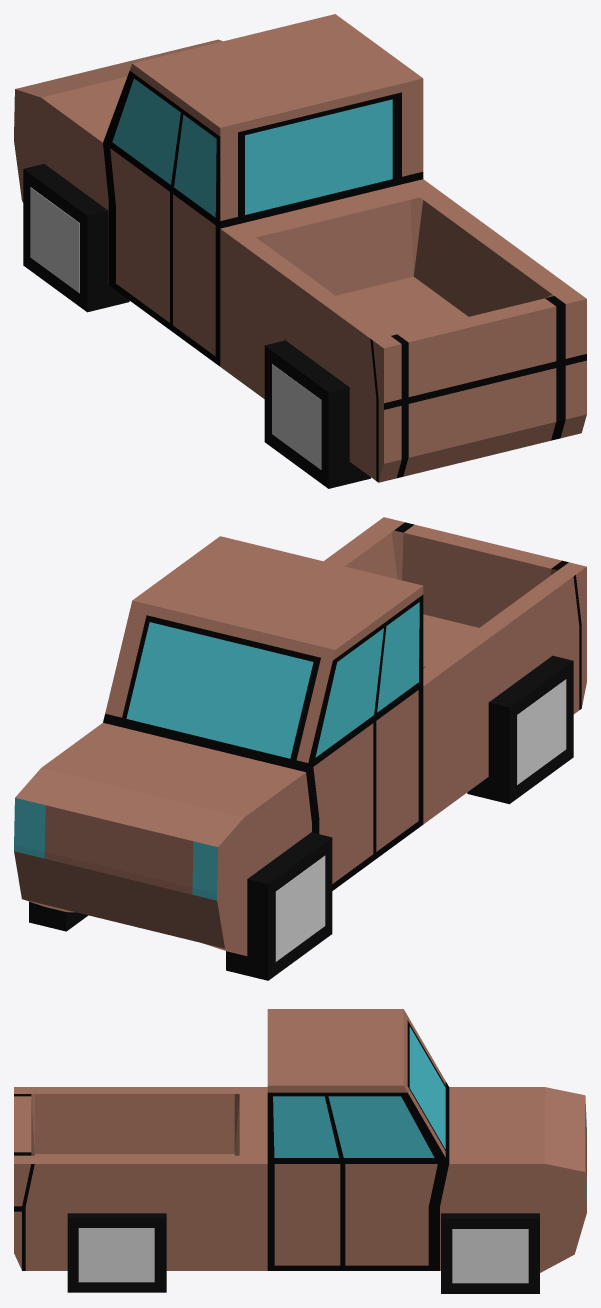
File: cartruck.fbx
3 views of the same model, one above another, from view 1: azimuth 30°, elevation 25°; view 2: azimuth 150°, elevation 25°; view 3: azimuth 270°, elevation 25° (orthographic). The views are drawn at different scales.
Parts seen in each view (by area): view 1: Cube, Cube.002; view 2: Cube, Cube.002; view 3: Cube, Cube.002.
Part boxes in pixels (left/top/right/bottom): Cube: left=14, top=14, right=586, bottom=482; Cube.002: left=23, top=164, right=370, bottom=488; Cube: left=14, top=517, right=586, bottom=955; Cube.002: left=29, top=655, right=573, bottom=980; Cube: left=14, top=1009, right=586, bottom=1272; Cube.002: left=67, top=1213, right=539, bottom=1293.
Size of the model in its own units: 236 by 246 by 631.
